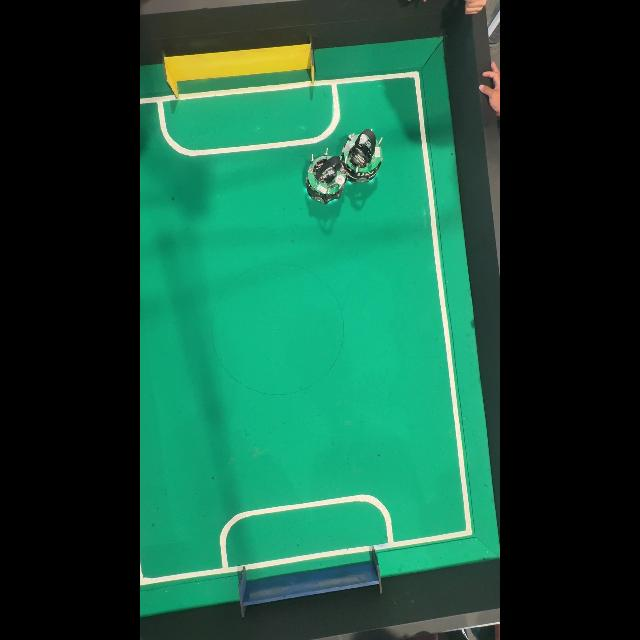goal: (239, 546, 382, 617), (164, 43, 314, 98)
robot: (336, 131, 382, 183), (306, 148, 347, 204)
